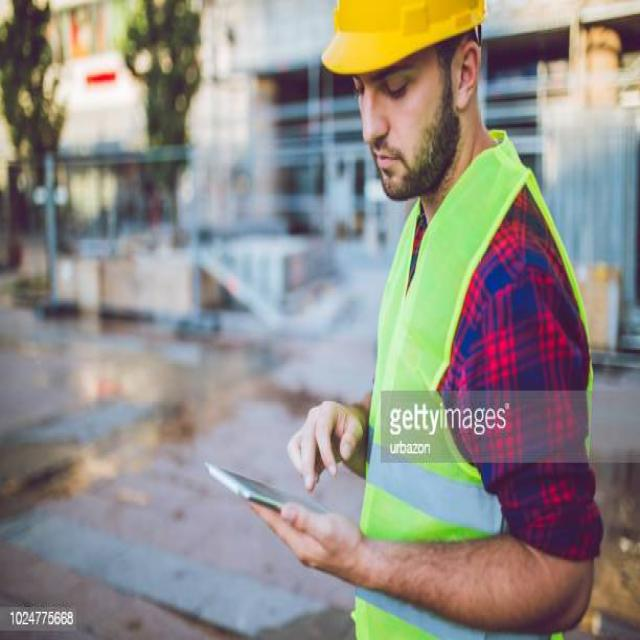helmet: (325, 0, 486, 63)
no-goggles: (345, 54, 462, 102)
vest: (355, 127, 593, 640)
